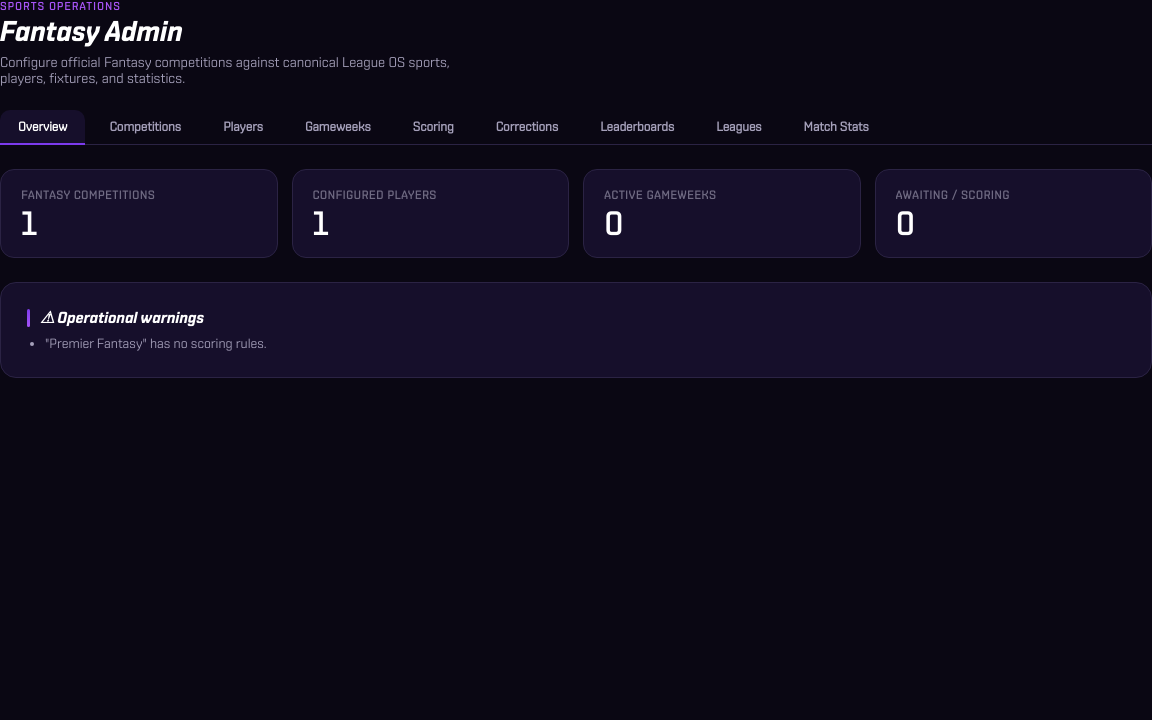
Test: FantasyAdminPage — public/private visibility › create form defaults to PUBLIC visibility
Click the button "Competitions" at (145, 127), box top-left (91, 110), bottom-right (199, 145)
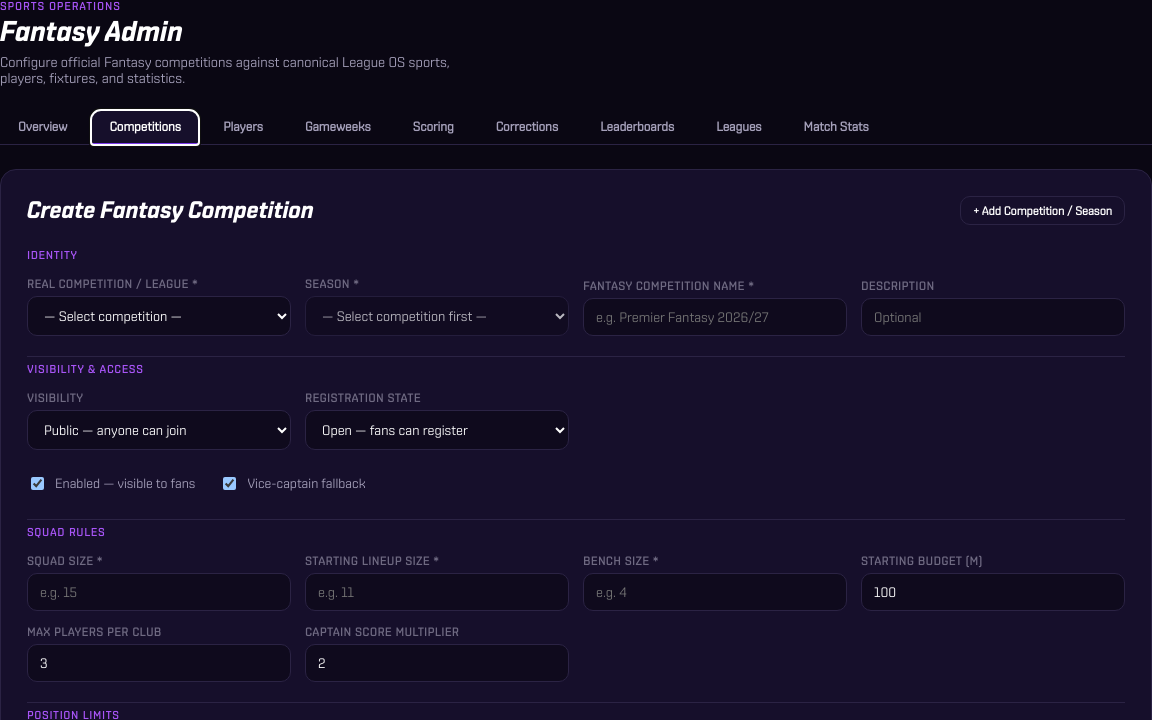
Expected: the dropdown labelled "Visibility" shows "Public — anyone can join", top-left (27, 410), bottom-right (291, 450)
